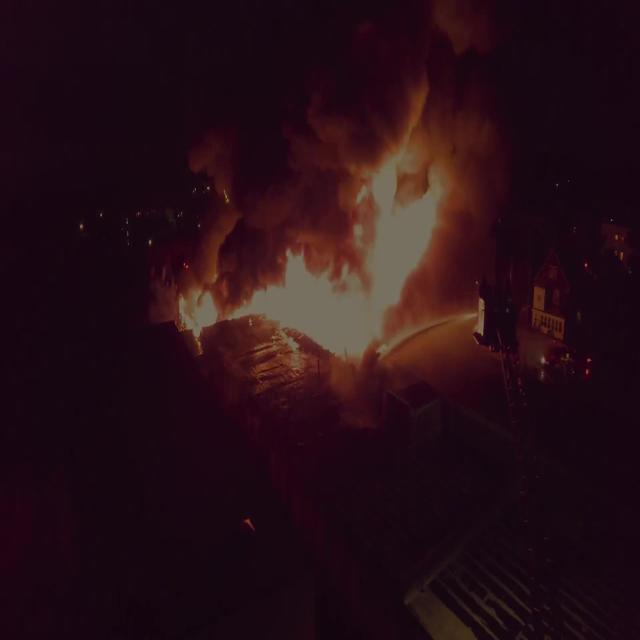Fire: (176, 172, 447, 366)
Smoke: (180, 0, 518, 170)
